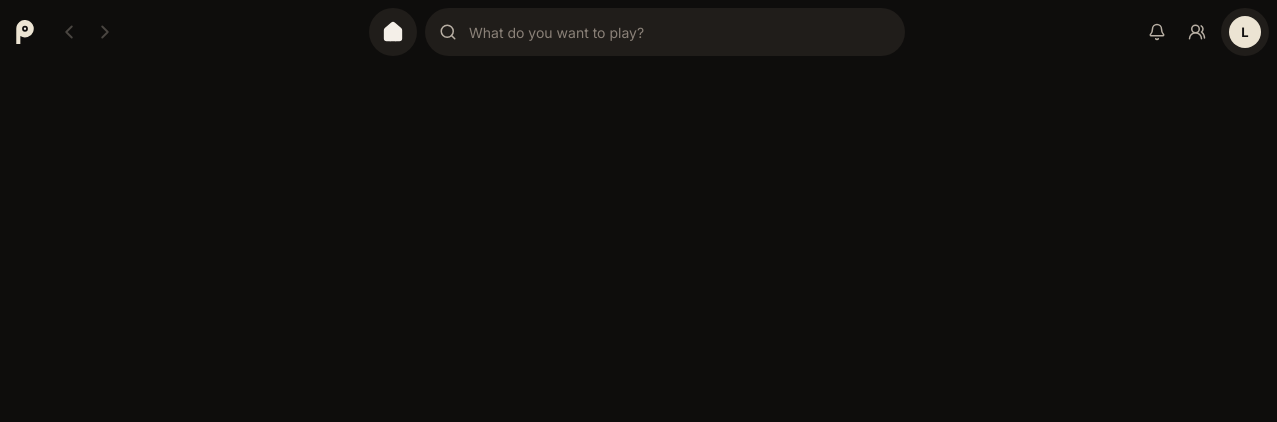
app menu › opens from the avatar with seven short items, then Sign out
What coordinates should you click on to do the following:
click the button named "App menu, signed in as listener"
I would click on:
 (1245, 32)
Its box is x1=1221 y1=8 x2=1269 y2=56.
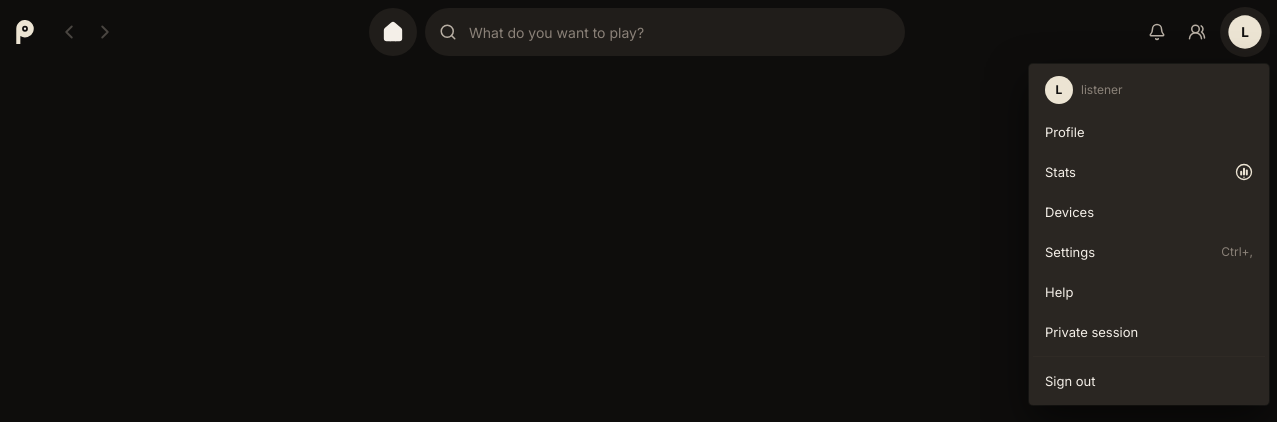
Now the button named "App menu, signed in as listener" is expanded, box x1=1220 y1=7 x2=1270 y2=57
